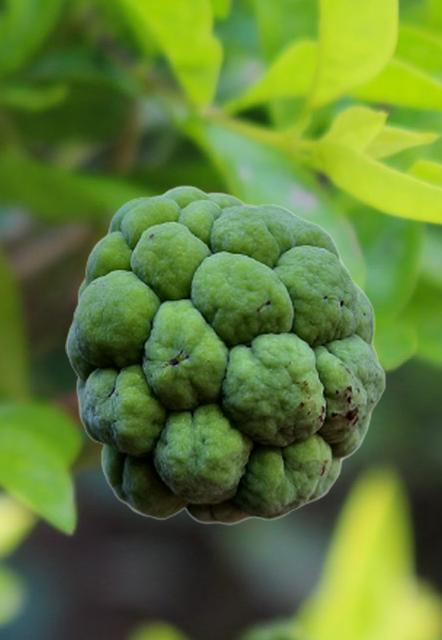atis: (65, 184, 385, 525)
